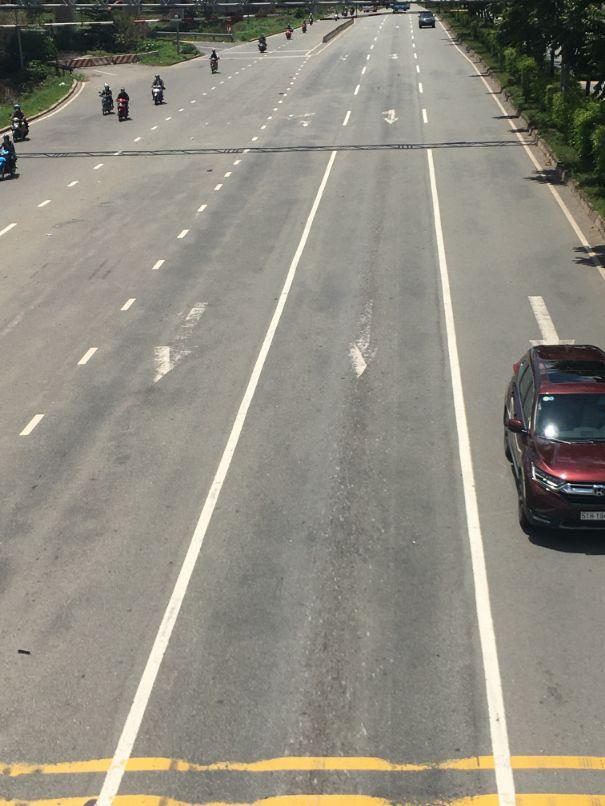car: (504, 339, 605, 539), (419, 13, 436, 31)
motorbike: (116, 91, 130, 122), (101, 88, 115, 117), (151, 78, 165, 104), (257, 37, 267, 54)
